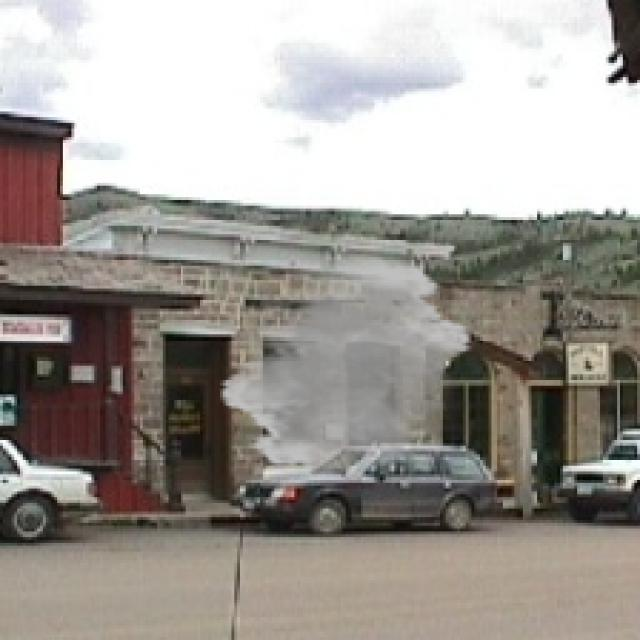smoke: (217, 251, 474, 480)
